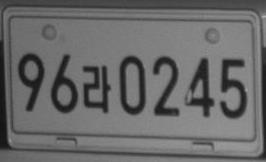0: (118, 55, 146, 115)
2: (152, 55, 180, 116)
4: (184, 57, 215, 117)
5: (219, 58, 247, 119)
6: (50, 54, 79, 113)
9: (17, 52, 45, 112)
라: (82, 64, 111, 114)
